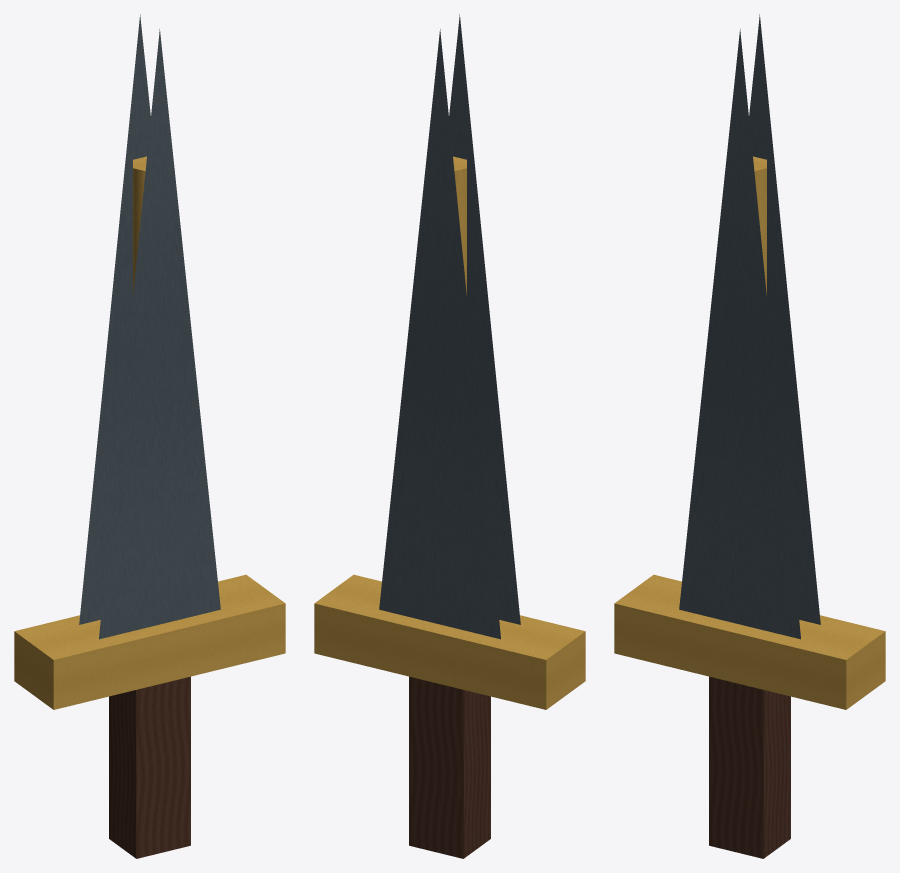
File: sword.glb
The picture shows the model from 3 angles, left to right: view 1: azimuth 30°, elevation 25°; view 2: azimuth 150°, elevation 25°; view 3: azimuth 330°, elevation 25°; orthographic projection.
Visible parts, largest first — view 1: sword; view 2: sword; view 3: sword.
Boxes of the visible parts, box(x1,y1,x2,y2) form: sword: box(14, 14, 285, 858); sword: box(314, 14, 585, 858); sword: box(614, 14, 885, 858).
Bounding box in the file's own units: 0.34 × 1.15 × 0.1.
Materials: 3 (3 with a texture image).
